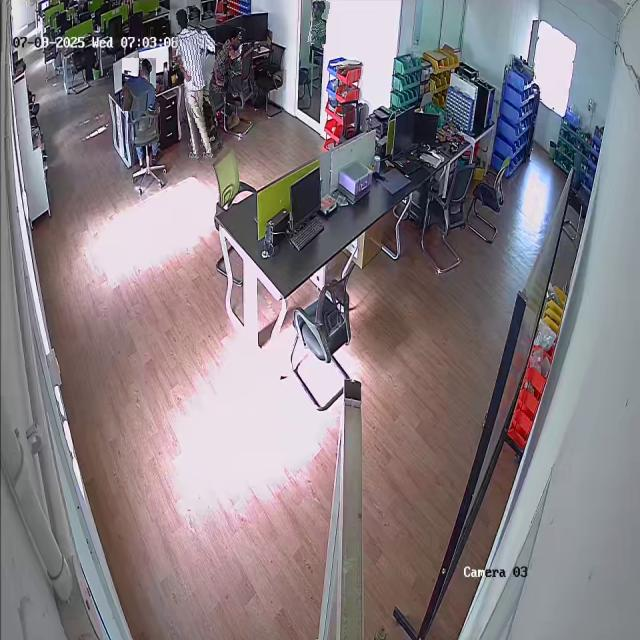person: (176, 6, 218, 160), (213, 26, 244, 94), (122, 58, 156, 111), (309, 0, 328, 44)
